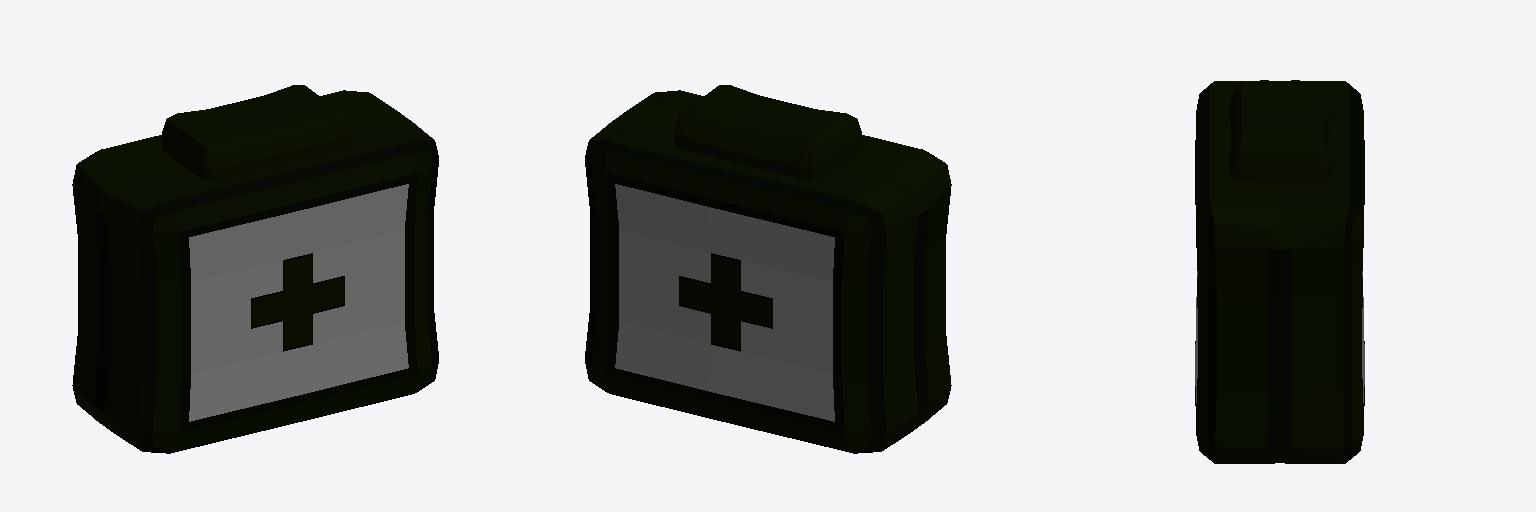
File: FirstAidKit.obj
3 views of the same model, side by side, from view 1: azimuth 30°, elevation 25°; view 2: azimuth 150°, elevation 25°; view 3: azimuth 270°, elevation 25° (orthographic).
Visible parts, largest first — view 1: FirstAidKit_Cube.001; view 2: FirstAidKit_Cube.001; view 3: FirstAidKit_Cube.001.
Boxes of the visible parts, <box> form: FirstAidKit_Cube.001: <box>72,85,438,453</box>; FirstAidKit_Cube.001: <box>585,85,951,453</box>; FirstAidKit_Cube.001: <box>1195,80,1364,463</box>.
Bounding box in the file's own units: 1.56 × 1.36 × 0.7333.